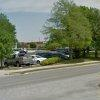Tree: (44, 3, 100, 62)
